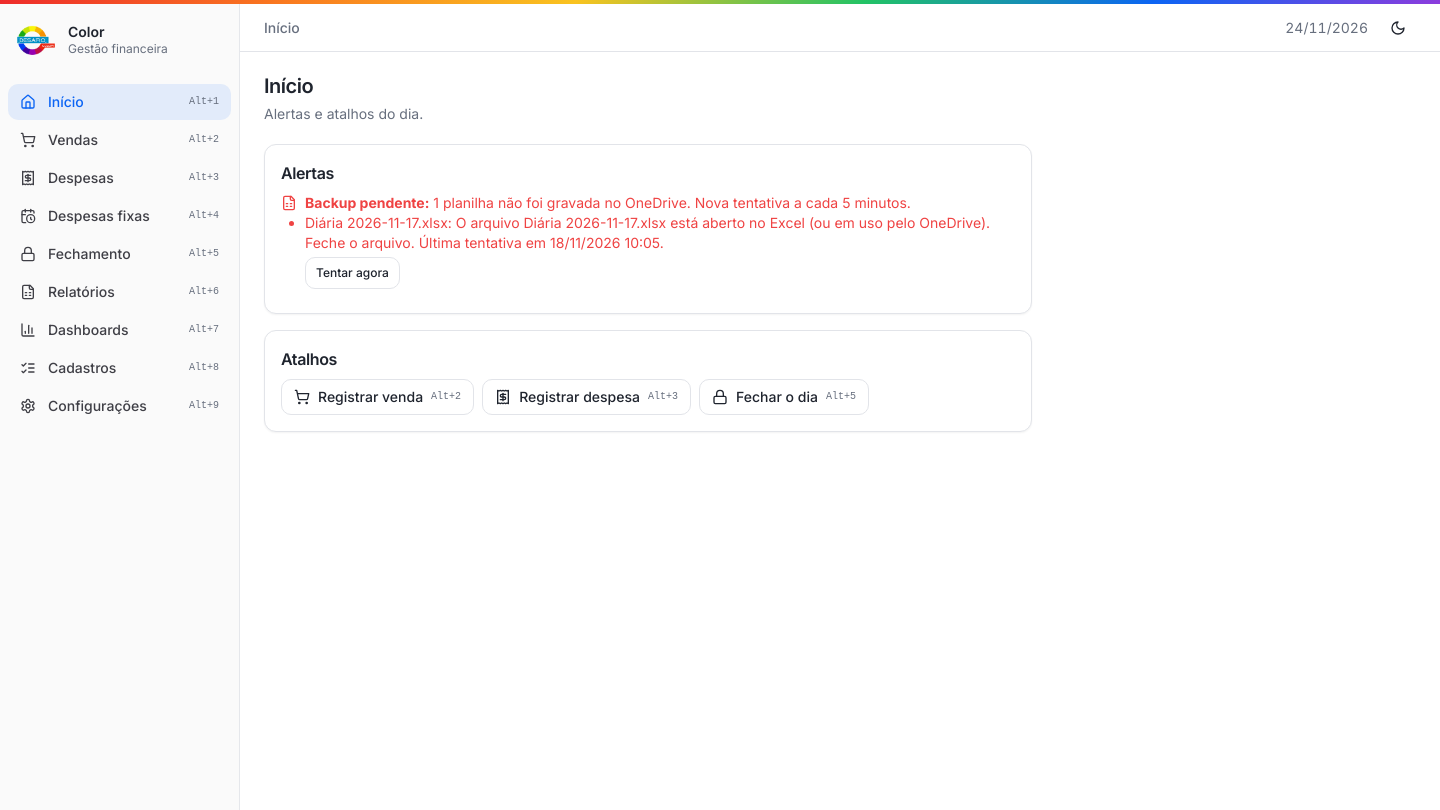
Test case: FR-30: Início shows the exports that could not be written › FR-30: when Tentar agora fails again, it says so
The width and height of the screenshot is (1440, 810).
Click the button "Tentar agora": (352, 273) [305, 257, 400, 289]
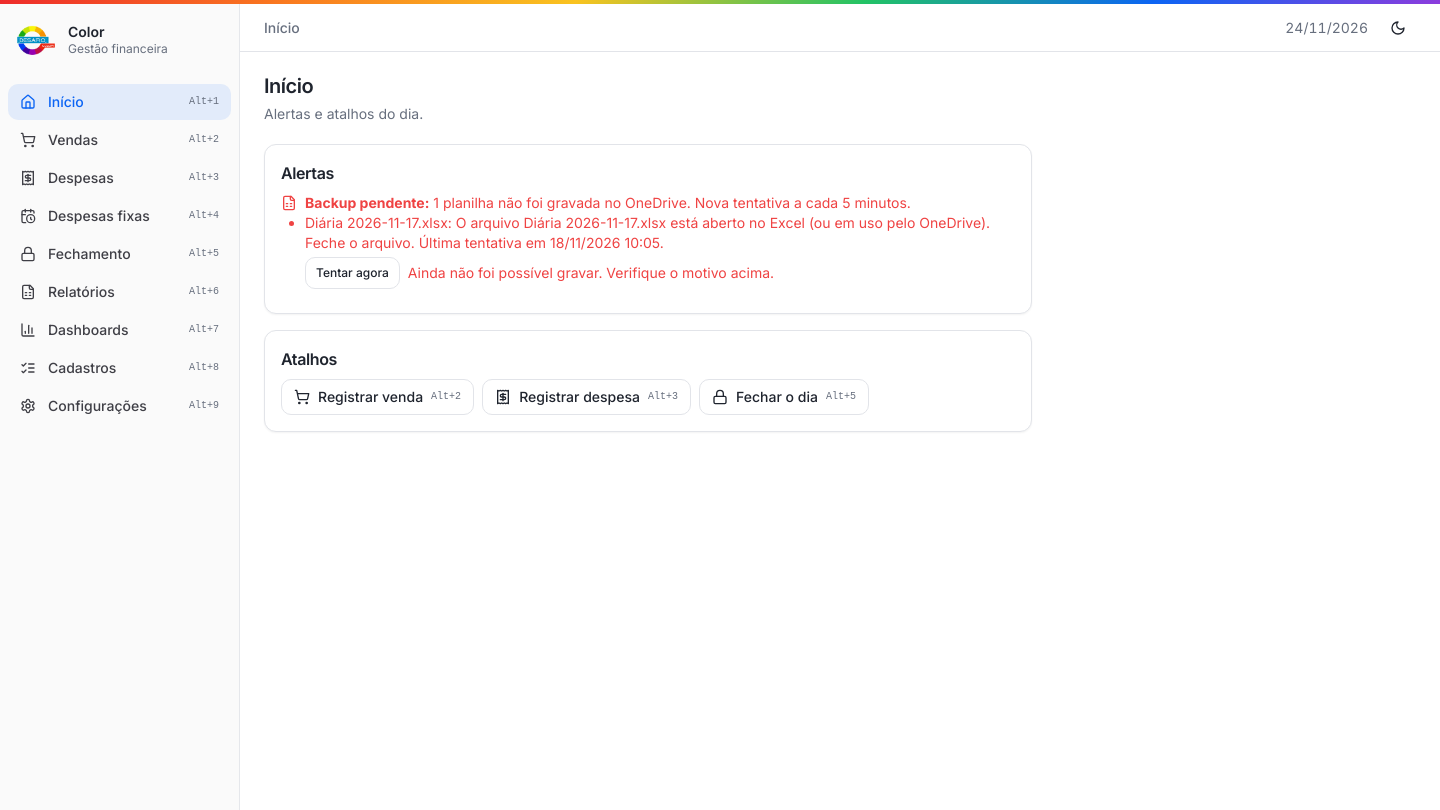
Now the text "Ainda não foi possível gravar. Verifique o motivo acima." is shown, box [408, 263, 774, 283]
